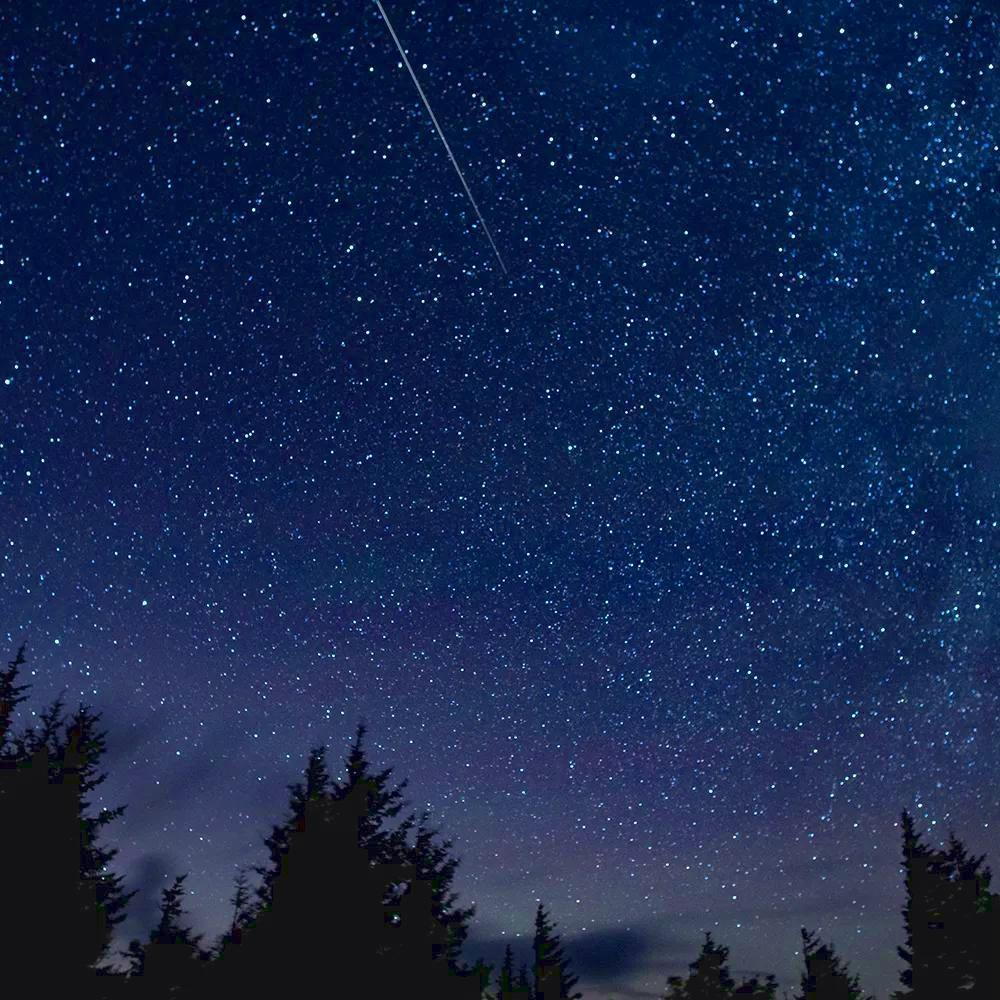meteorite: (345, 0, 517, 298)
